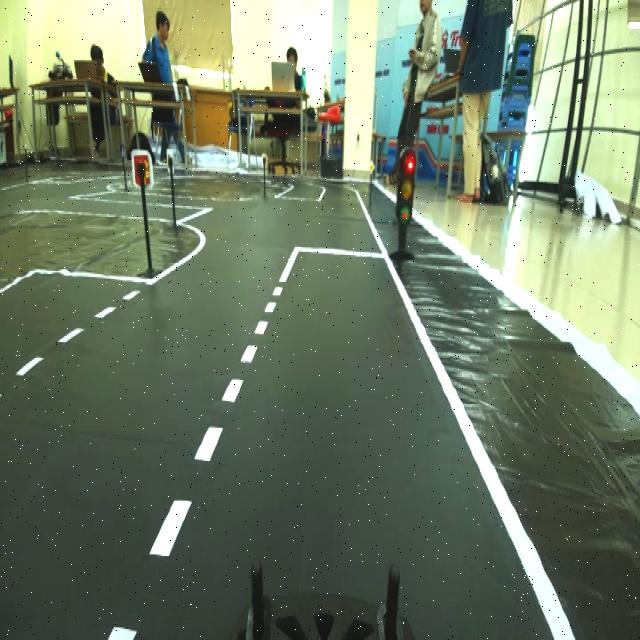trafficlight: (384, 142, 426, 292)
